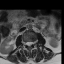CCS_normal: (28, 39, 30, 49)
LFS_normal: (32, 40, 35, 46)
LLS_normal: (30, 39, 32, 47)
RFS_normal: (24, 40, 26, 46)
RLS_normal: (26, 40, 28, 46)
